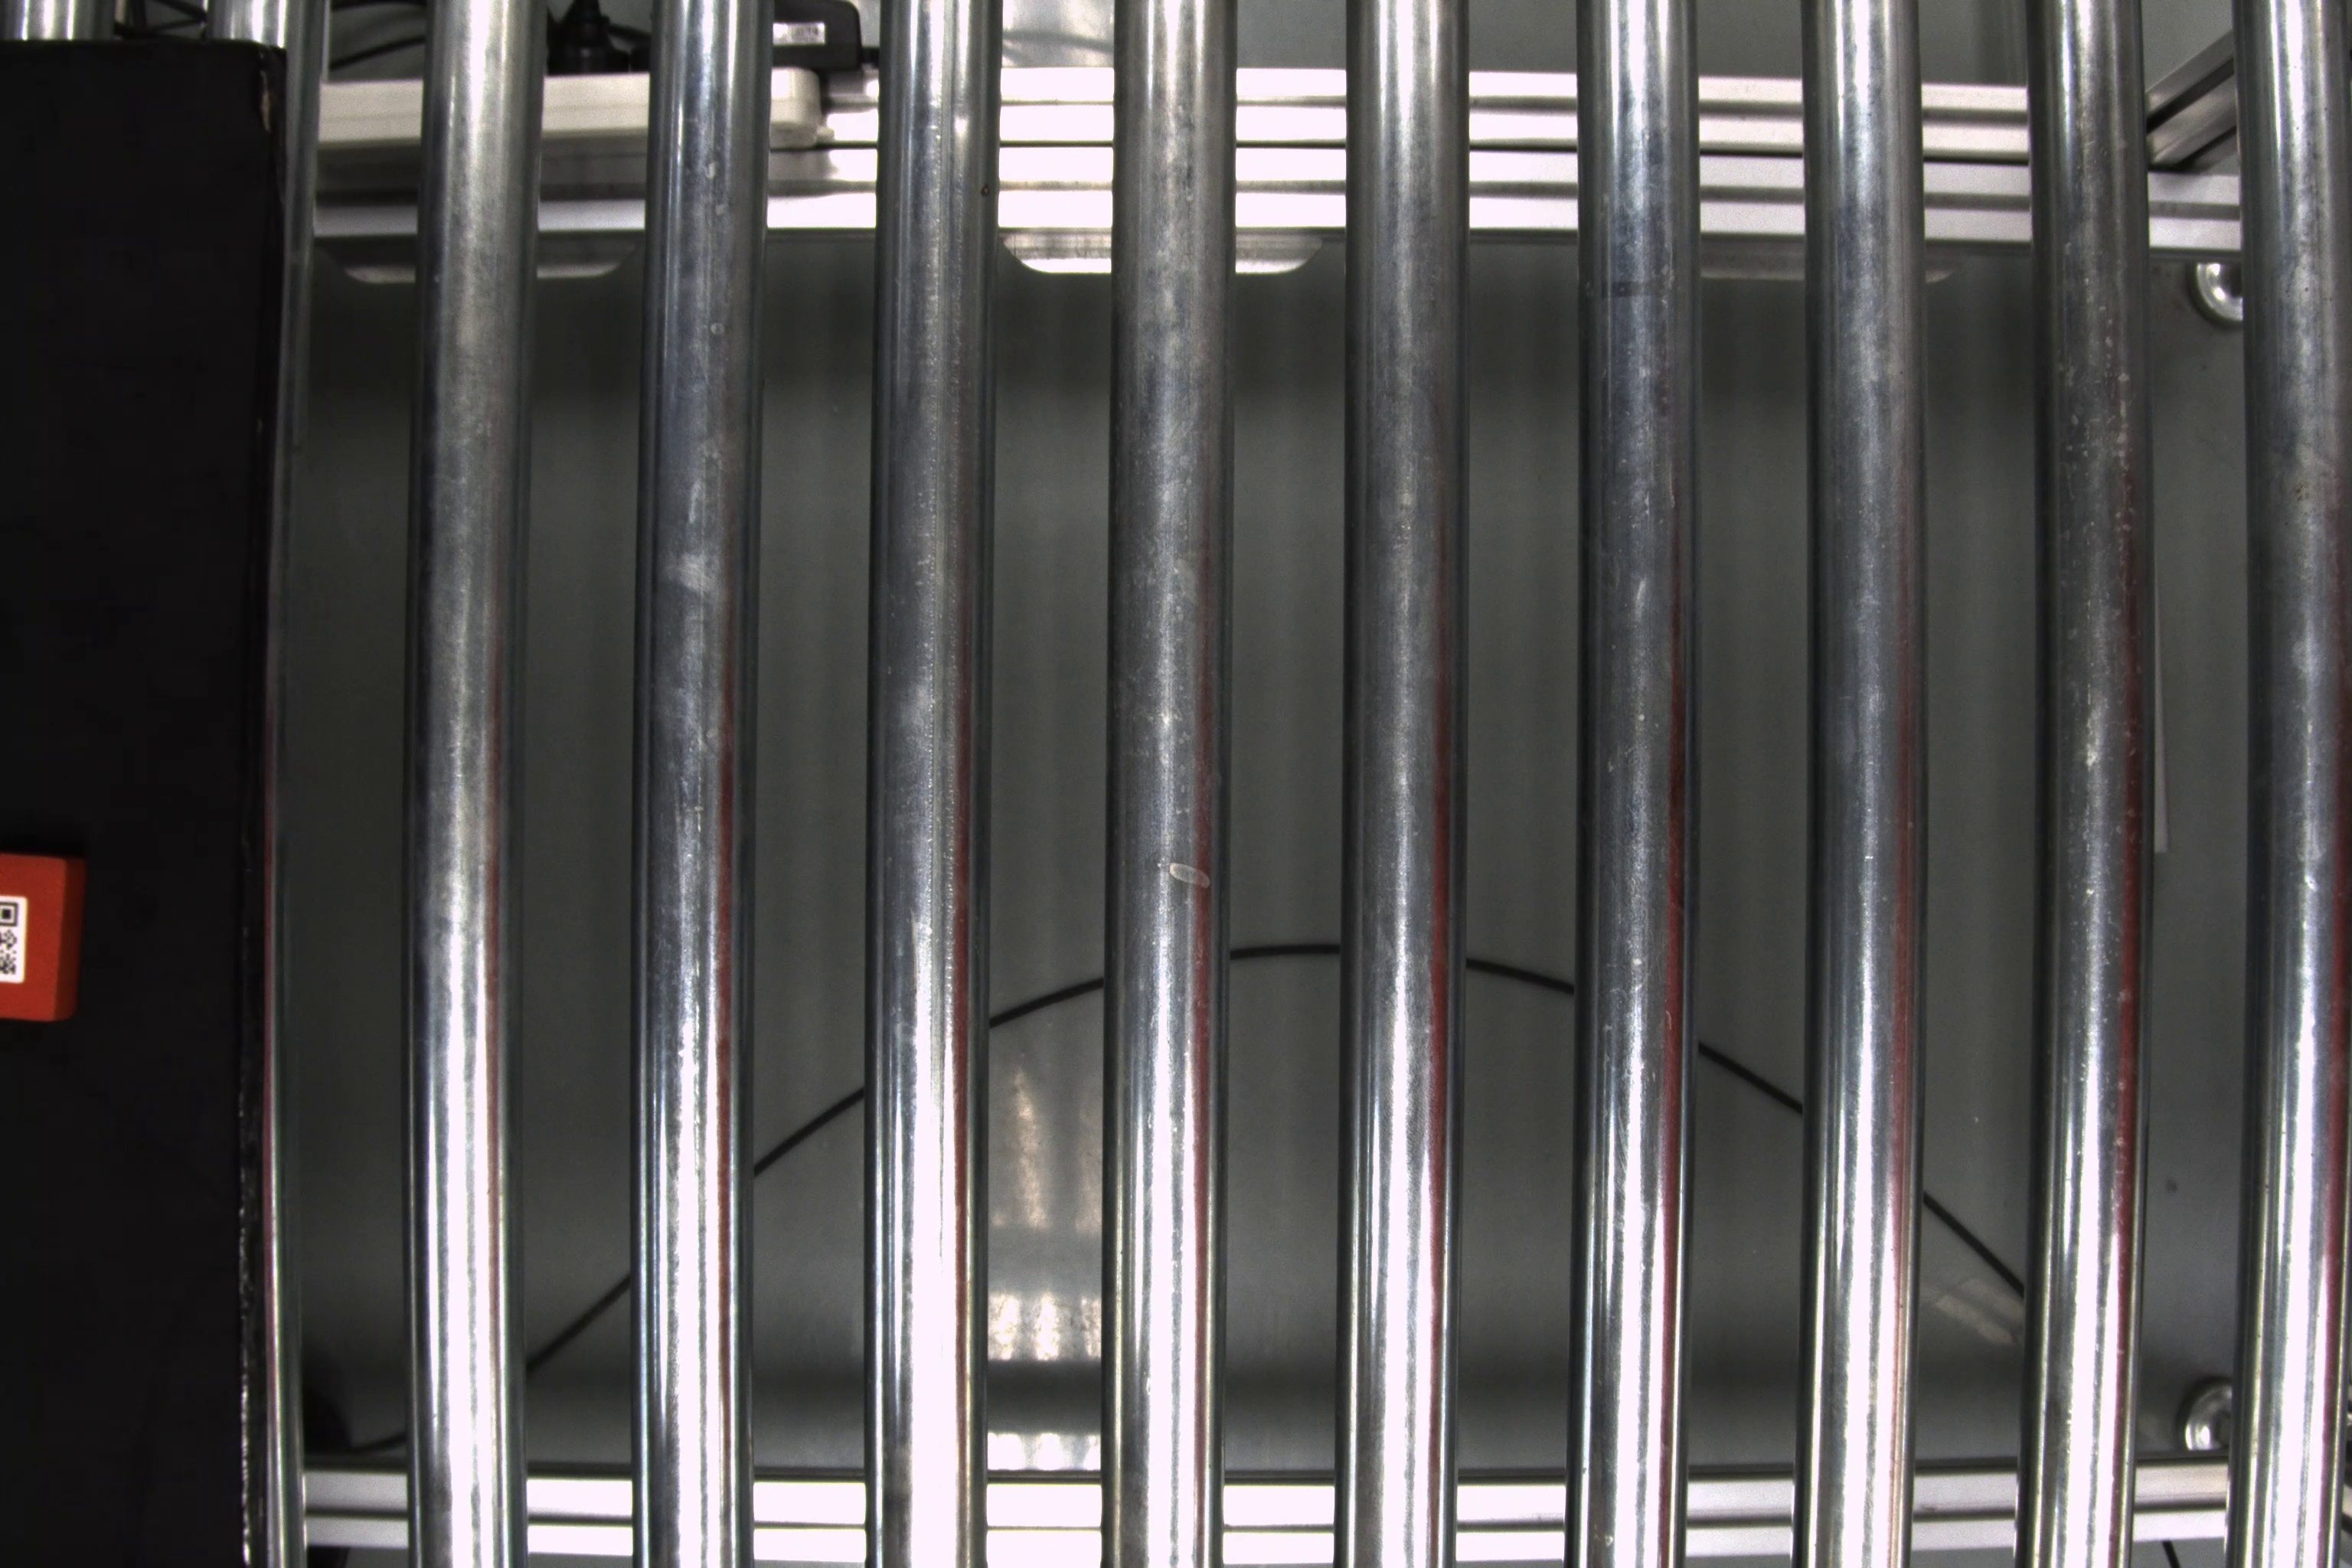wood: (0, 847, 93, 1027)
